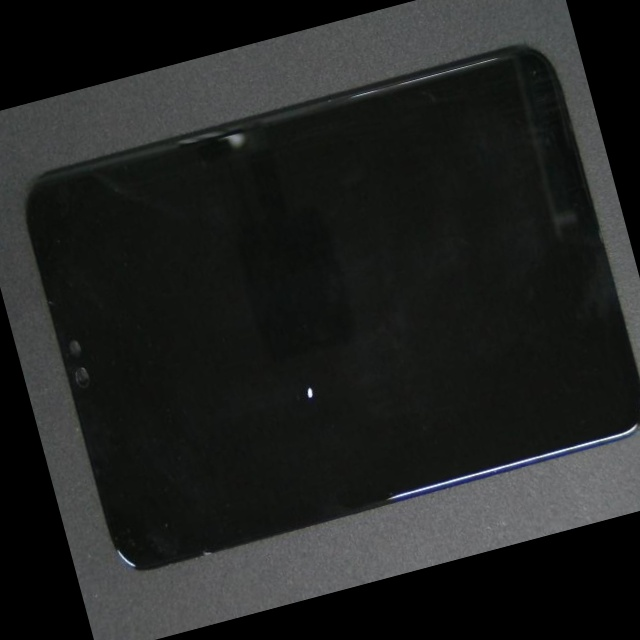stain: (139, 160, 474, 564)
